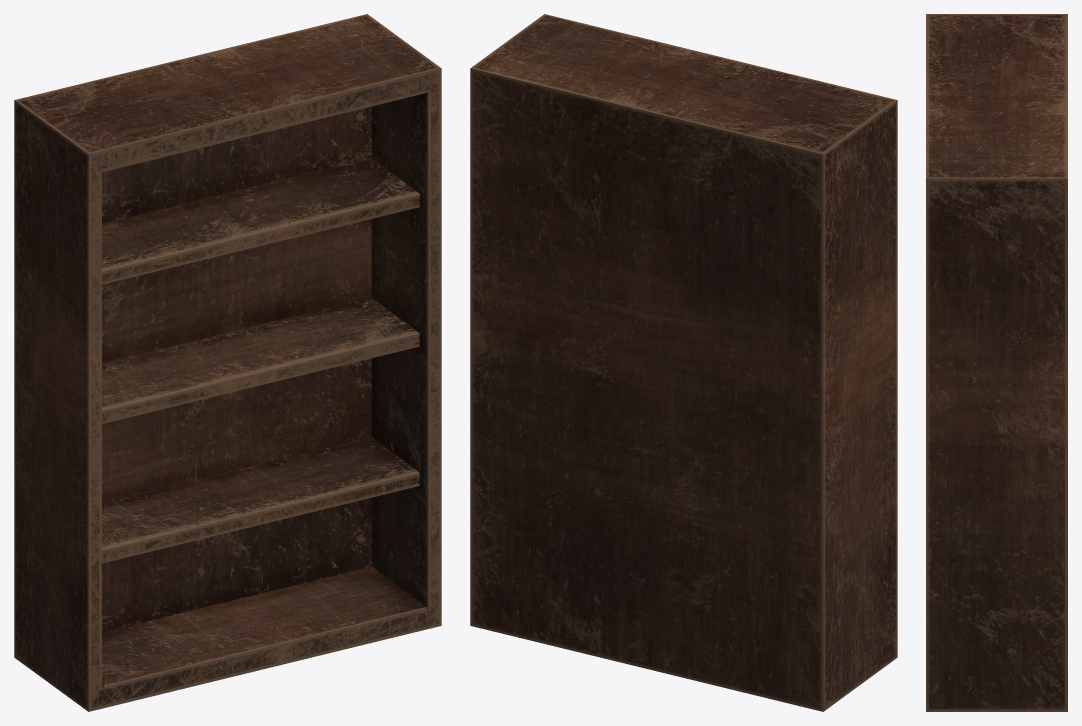
File: old_bookshelf.obj
3 renders of one model, left to right at view 1: azimuth 30°, elevation 25°; view 2: azimuth 150°, elevation 25°; view 3: azimuth 270°, elevation 25°, orthographic. The views are drawn at different scales.
Parts seen in each view (by area): view 1: Book_Self_exported3:Mesh; view 2: Book_Self_exported3:Mesh; view 3: Book_Self_exported3:Mesh.
Boxes of the visible parts, x1,y1,x2,y2 form: Book_Self_exported3:Mesh: (14,14,441,711); Book_Self_exported3:Mesh: (470,14,897,711); Book_Self_exported3:Mesh: (926,14,1067,711).
Size of the model in its own units: 5.3 by 8 by 1.93.
Materials: 1 (1 with a texture image).
